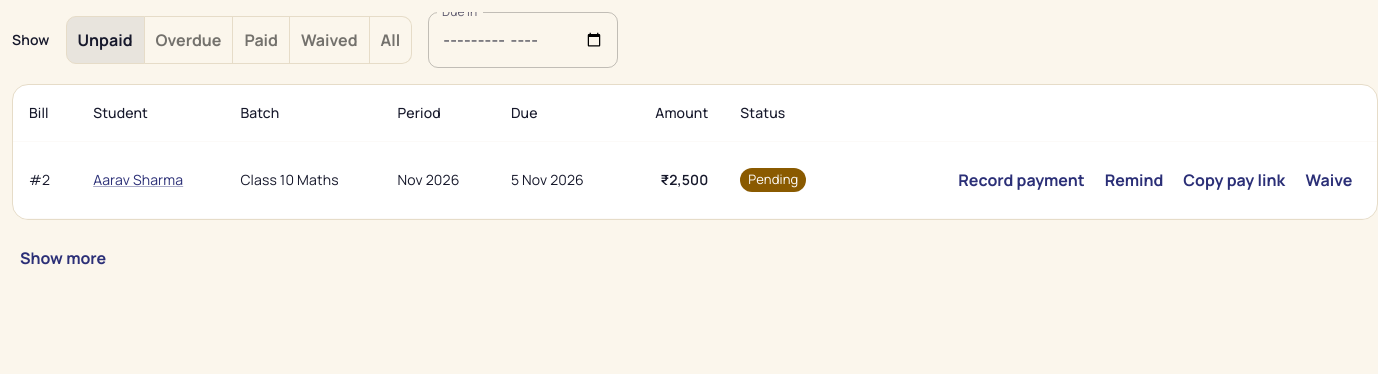
InvoiceList › loads more bills on request
The image size is (1378, 374).
Expected: the table is shown, [13,85,1377,219]
Click the button "Show more". click: (63, 258)
box: [12,236,114,280]
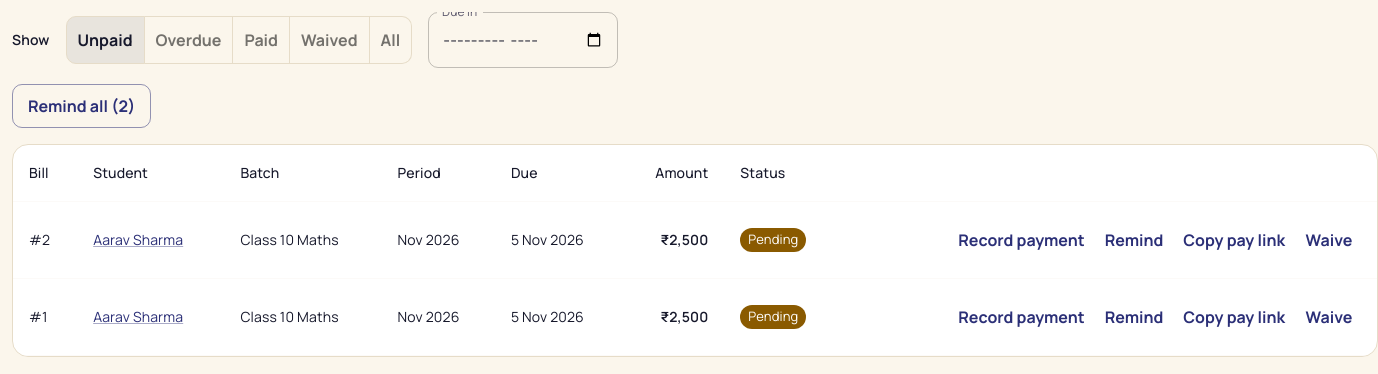
Now the text "#1" is shown, box [13,278,77,356]
Now the button "Show more" is gone
